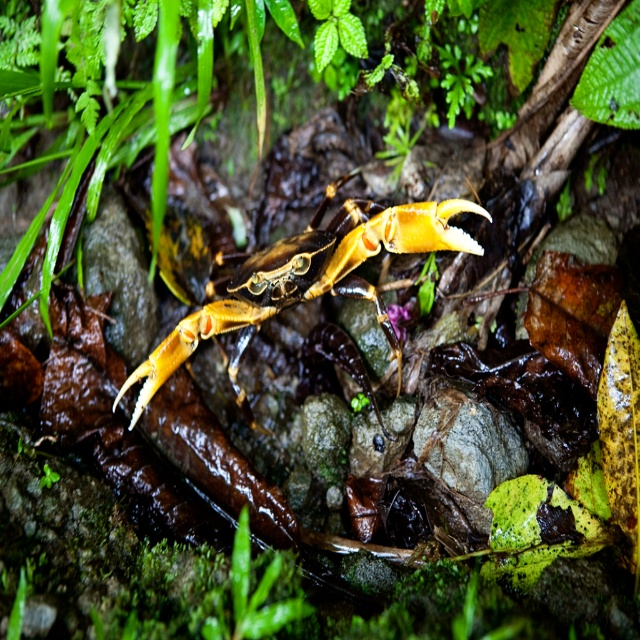Crab: (112, 166, 493, 432)
